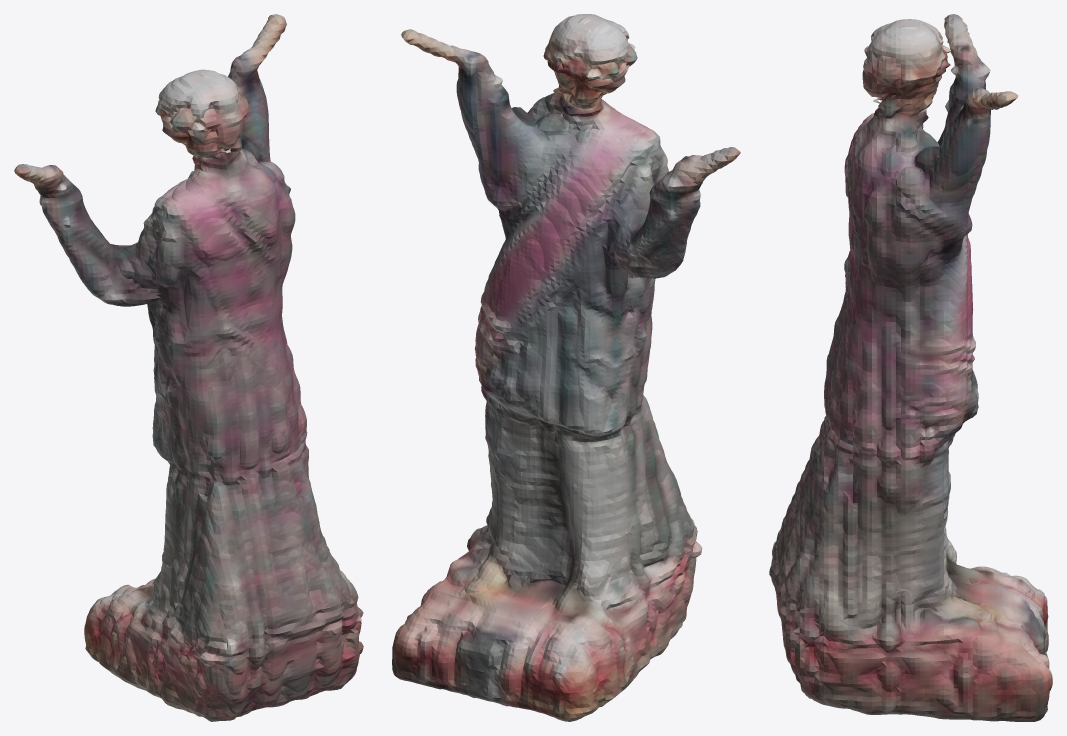
Rendered from sumatrautara.glb.
3 views of the same model, side by side, from view 1: azimuth 30°, elevation 25°; view 2: azimuth 150°, elevation 25°; view 3: azimuth 270°, elevation 25° (orthographic). The views are drawn at different scales.
Parts seen in each view (by area): view 1: world; view 2: world; view 3: world.
Boxes of the visible parts, x1,y1,x2,y2 form: world: (14, 14, 363, 721); world: (392, 14, 740, 721); world: (769, 14, 1052, 721).
Bounding box in the file's own units: 0.5064 × 1 × 0.4026.
